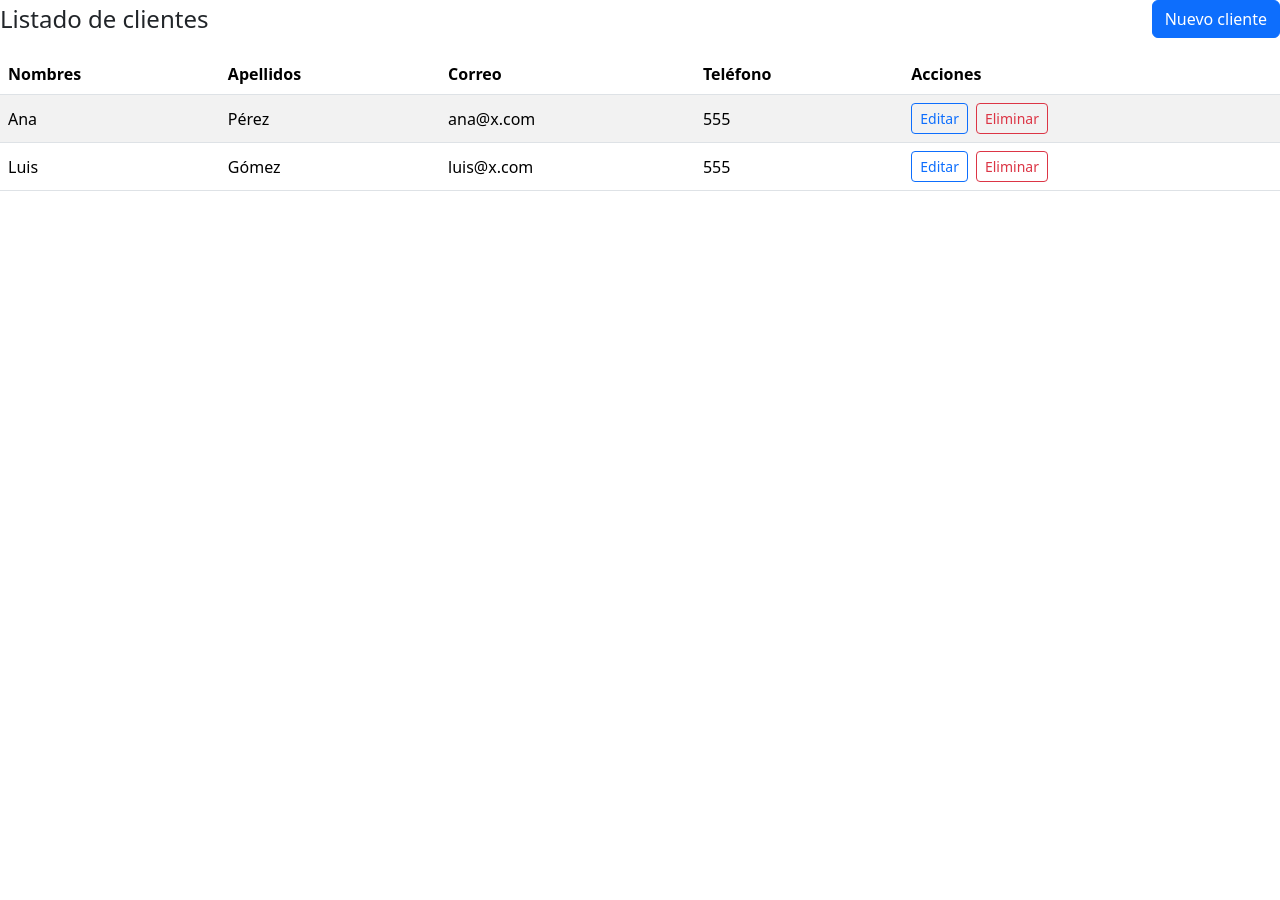
ClientesPage › debe_eliminar_tras_confirmar_en_el_dialogo
What coordinates should you click on to do the following:
click the button "Eliminar" in the row of "Pérez"
I would click on:
 (1012, 118)
Its box is [976,103,1048,134].
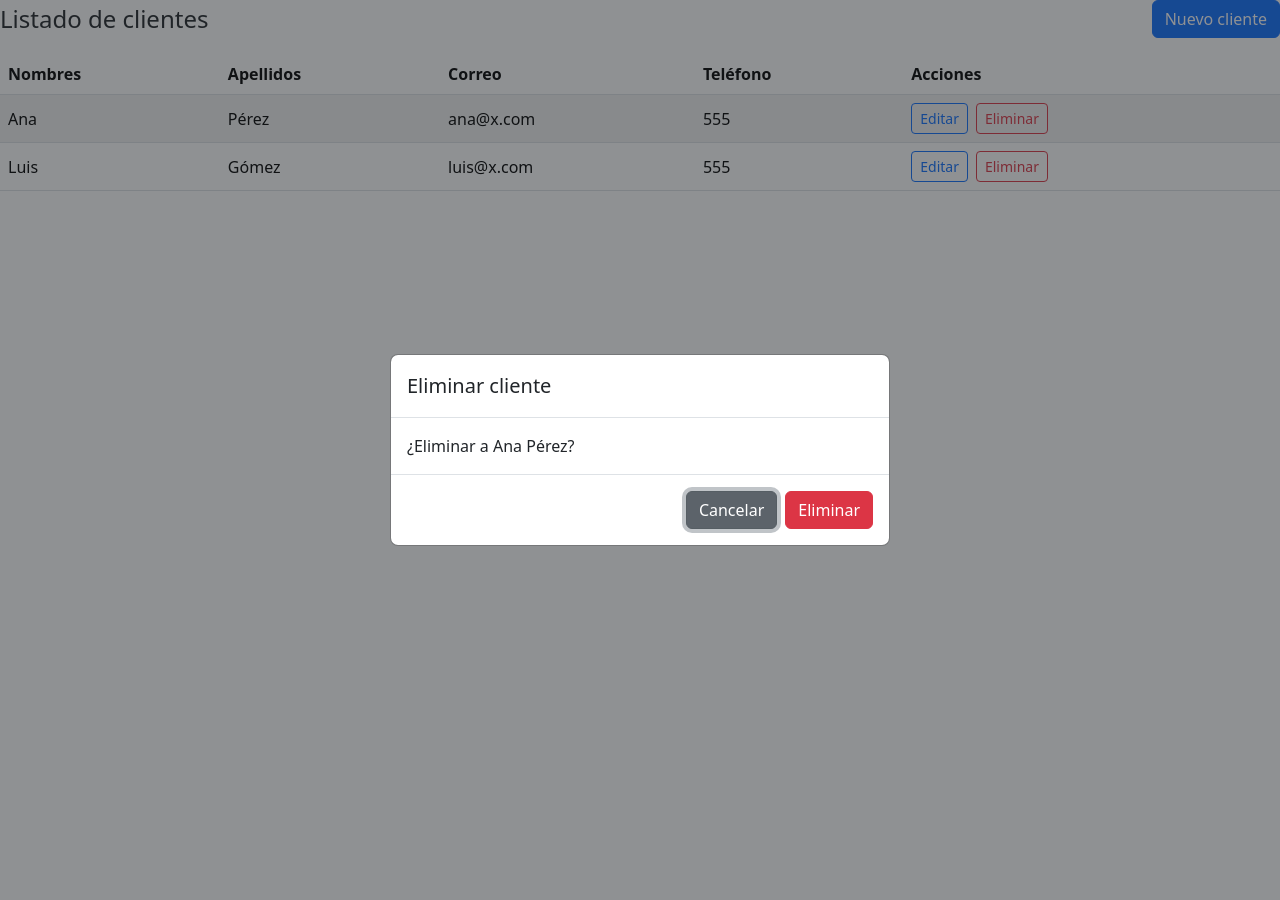
Expected: the dialog is shown
What coordinates should you click on to do the following:
click the button "Eliminar"
I would click on:
 (829, 510)
Its box is [785,491,873,529].
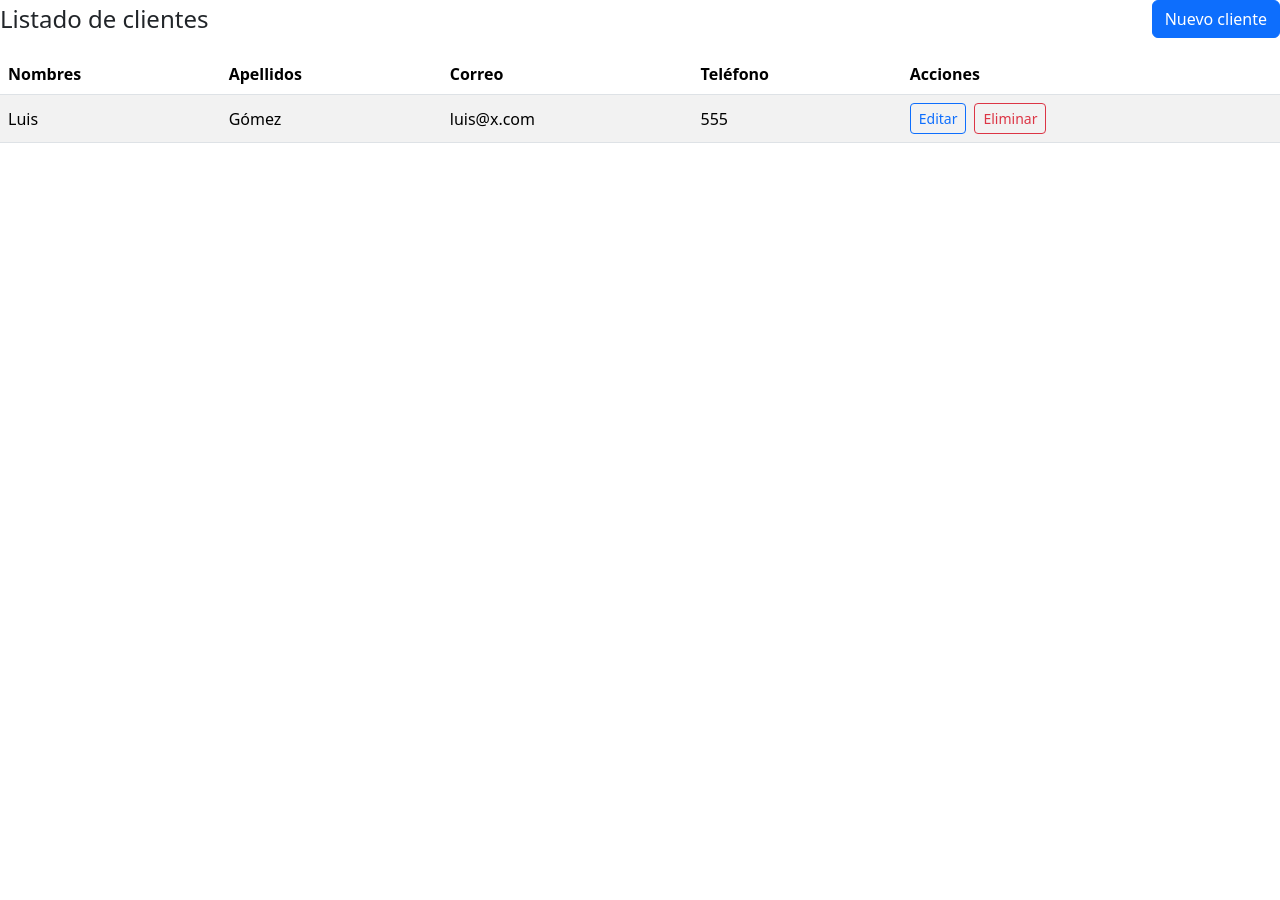
Expected: the text "ana@x.com" is gone
